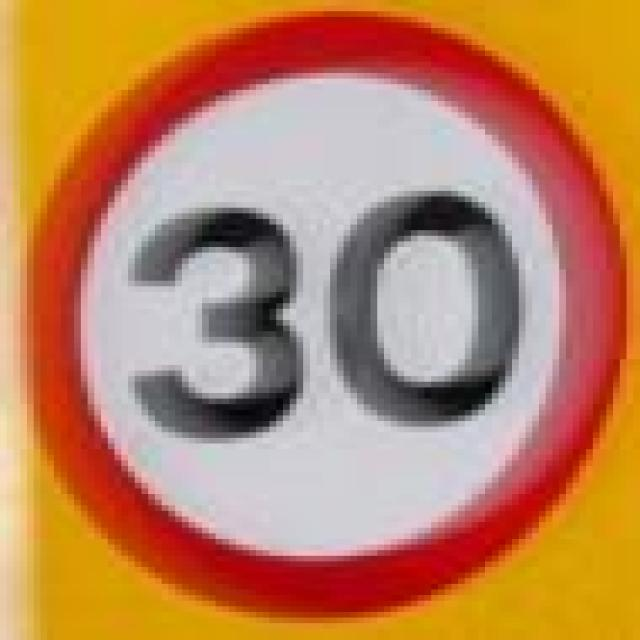speed_limit_30: (20, 11, 613, 612)
